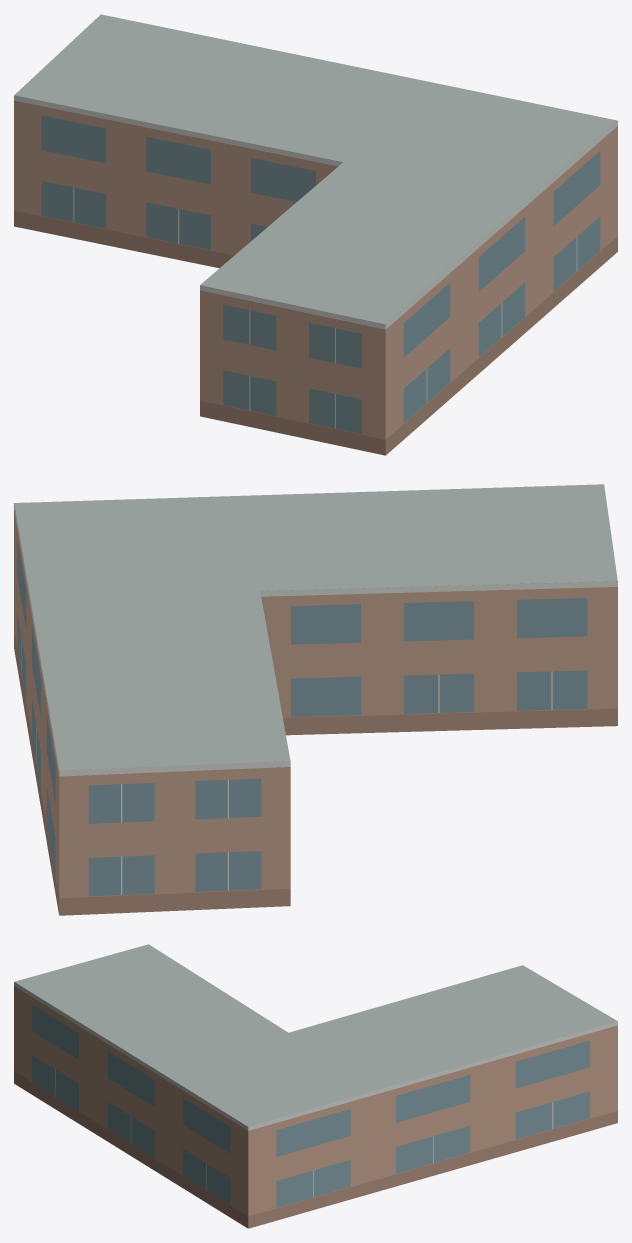
The model's file is survey-upis-33034069.glb.
3 renders of one model, top to bottom at view 1: azimuth 30°, elevation 25°; view 2: azimuth 150°, elevation 25°; view 3: azimuth 270°, elevation 25°, orthographic. The views are drawn at different scales.
Parts seen in each view (by area): view 1: survey-upis-33034069.tmp; view 2: survey-upis-33034069.tmp; view 3: survey-upis-33034069.tmp.
Boxes of the visible parts, left/top/right/bottom form: survey-upis-33034069.tmp: left=14, top=14, right=617, bottom=455; survey-upis-33034069.tmp: left=14, top=484, right=617, bottom=915; survey-upis-33034069.tmp: left=14, top=944, right=617, bottom=1228.
Size of the model in its own units: 23.48 by 6.1 by 32.79.
